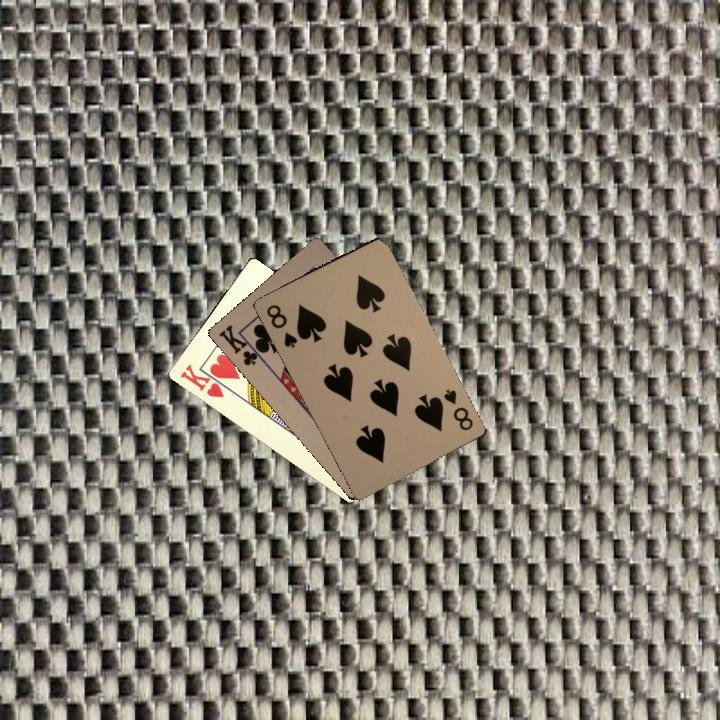8s: (262, 300, 300, 350), (439, 385, 476, 433)
Kc: (215, 320, 266, 368)
Kh: (176, 360, 232, 400)
